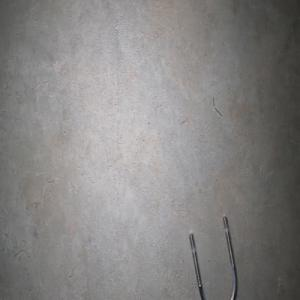ClampPart: (188, 214, 238, 300)
